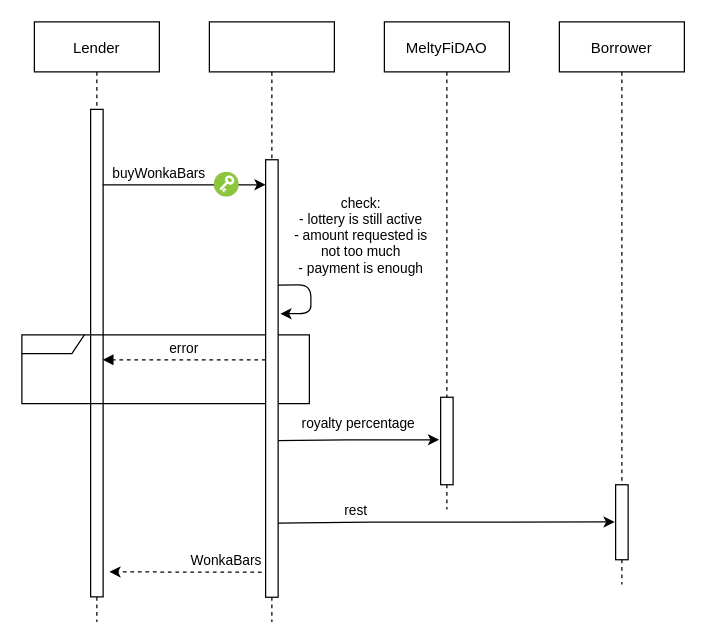
The diagram is 706 pixels wide and 644 high, and some of its shapes have lost their labels. The shapes that lost their labels are listed below. From the top down, each one's box as (x1, y1, x2, y2) in pixels, then its label:
(208, 21, 334, 622): MeltyFiNFT
(21, 334, 309, 404): break
